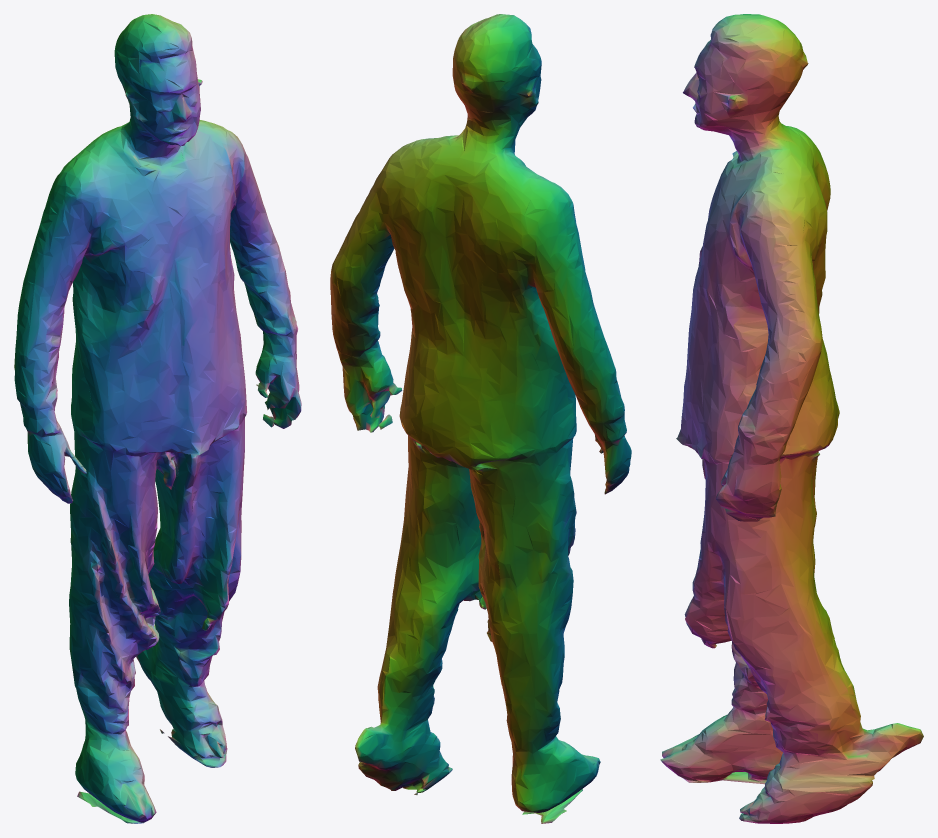
File: suriya_remesh.obj
The picture shows the model from 3 angles, left to right: view 1: azimuth 30°, elevation 25°; view 2: azimuth 150°, elevation 25°; view 3: azimuth 270°, elevation 25°; orthographic projection. The views are drawn at different scales.
Bounding box in the file's own units: 0.6824 × 1.84 × 0.5616.
